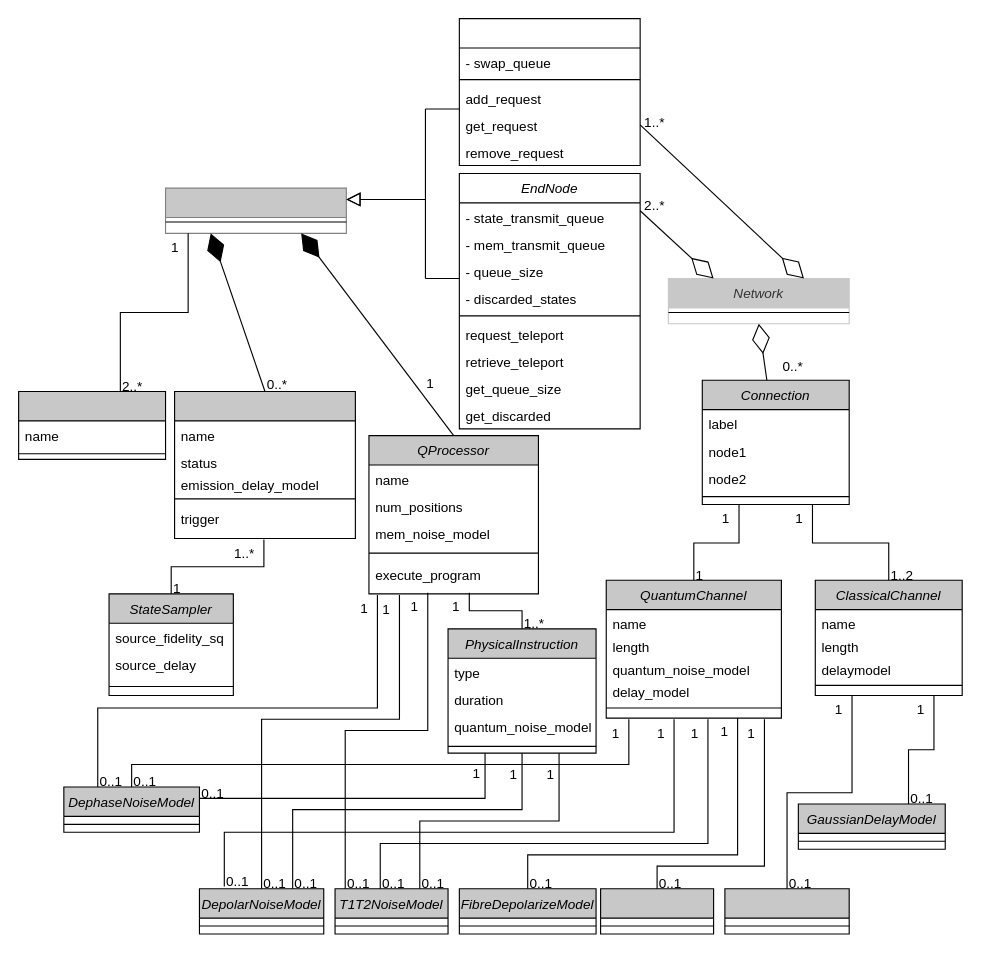
Image size: 981x953. Some labels were removed from this diagram. Each missing label, with the box of its shape:
FibreDelayModel: (724, 888, 849, 934)
FibreLossModel: (599, 888, 714, 934)
Node: (164, 187, 346, 233)
Port: (18, 390, 166, 459)
QSource: (173, 390, 355, 538)
Switch: (458, 18, 640, 166)
